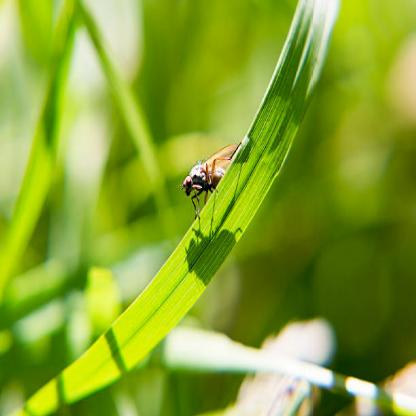sawfly: (179, 133, 254, 235)
